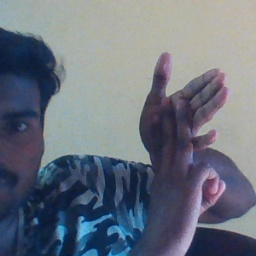M: (136, 51, 237, 211)
